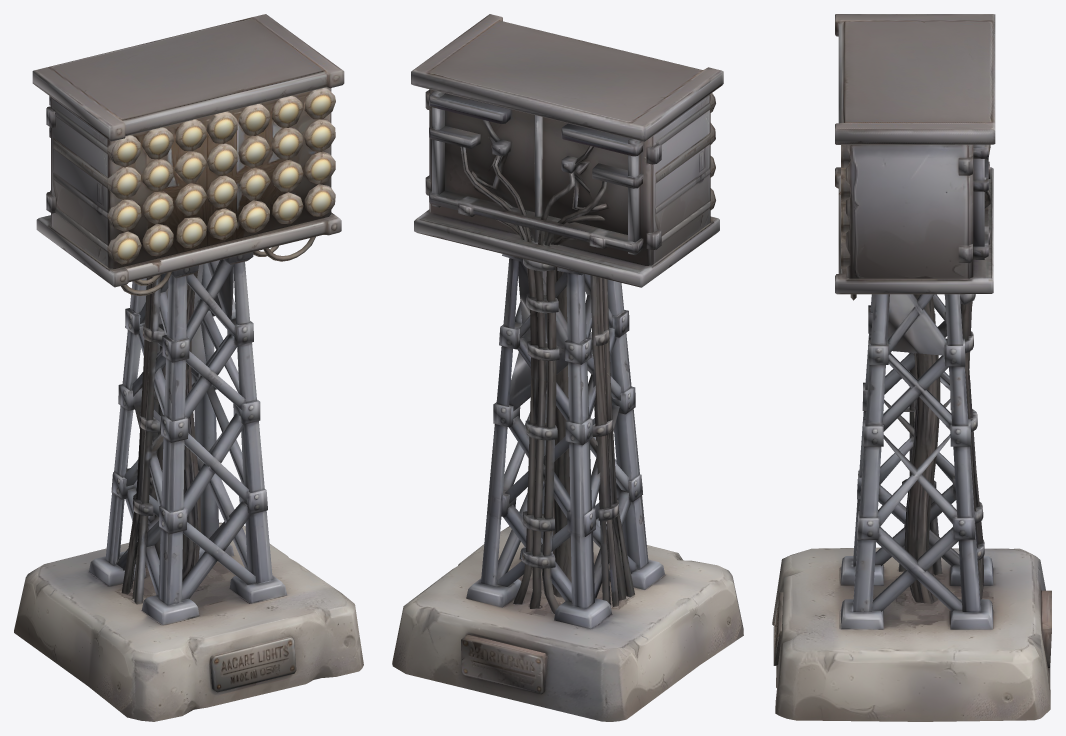
Rendered from floodlight_tower_3d_model_1.fbx.
3 renders of one model, left to right at view 1: azimuth 30°, elevation 25°; view 2: azimuth 150°, elevation 25°; view 3: azimuth 270°, elevation 25°, orthographic. The views are drawn at different scales.
Parts seen in each view (by area): view 1: tripo_node_25df1d86-9dd9-4000-96b5-920cb4e849fb; view 2: tripo_node_25df1d86-9dd9-4000-96b5-920cb4e849fb; view 3: tripo_node_25df1d86-9dd9-4000-96b5-920cb4e849fb.
Boxes of the visible parts, bbox=[...] form: tripo_node_25df1d86-9dd9-4000-96b5-920cb4e849fb: bbox=[14, 14, 363, 721]; tripo_node_25df1d86-9dd9-4000-96b5-920cb4e849fb: bbox=[392, 14, 743, 721]; tripo_node_25df1d86-9dd9-4000-96b5-920cb4e849fb: bbox=[772, 14, 1051, 721].
Size of the model in its own units: 0.4321 by 0.9995 by 0.4292.
1 material, 1 textured.
